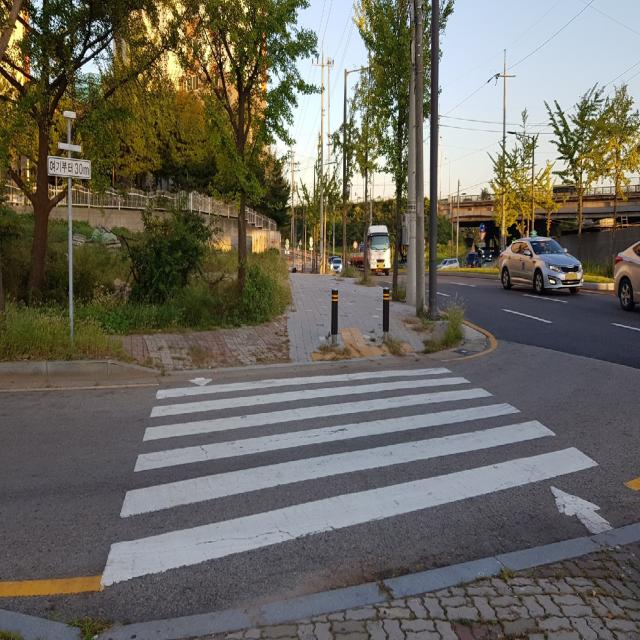횡단보도: (98, 363, 615, 594)
